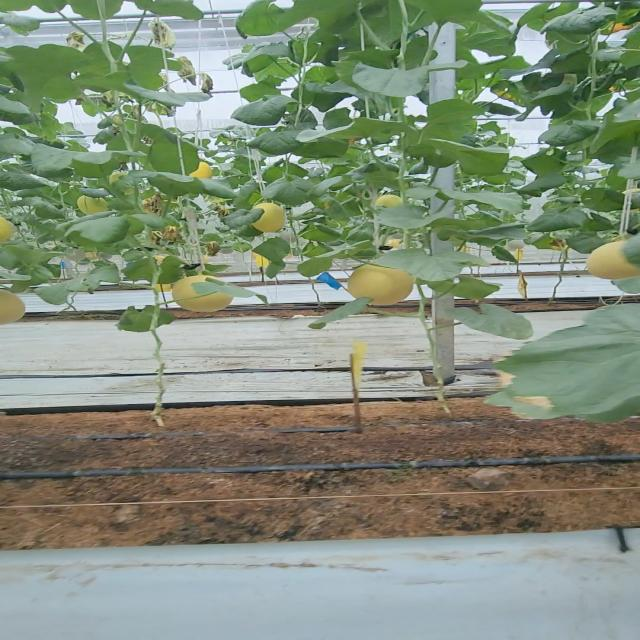Rear-melon: (350, 265, 411, 299), (587, 240, 631, 278), (257, 205, 286, 232)
